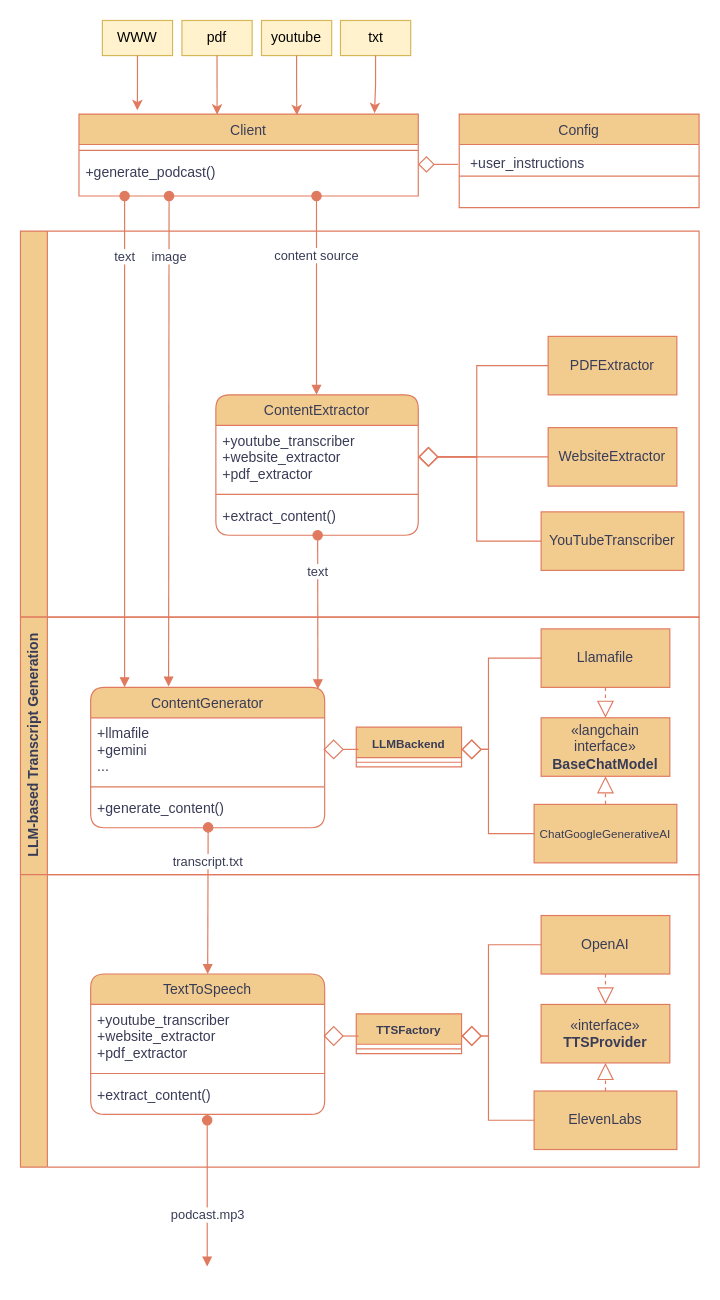
Image size: 720x1300. Some labels were removed from this diagram. The shapes that lost their labels are listed below. From the top down, each one's centre as x and y in pixels, then its label:
At (x=359, y=423): "Content Extraction".
At (x=359, y=1020): "Text-to-Speech".
